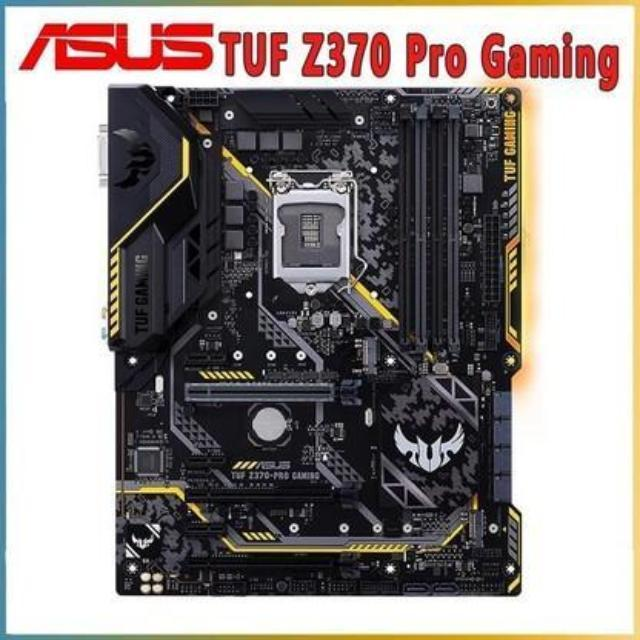Mainboard: (92, 80, 530, 598)
